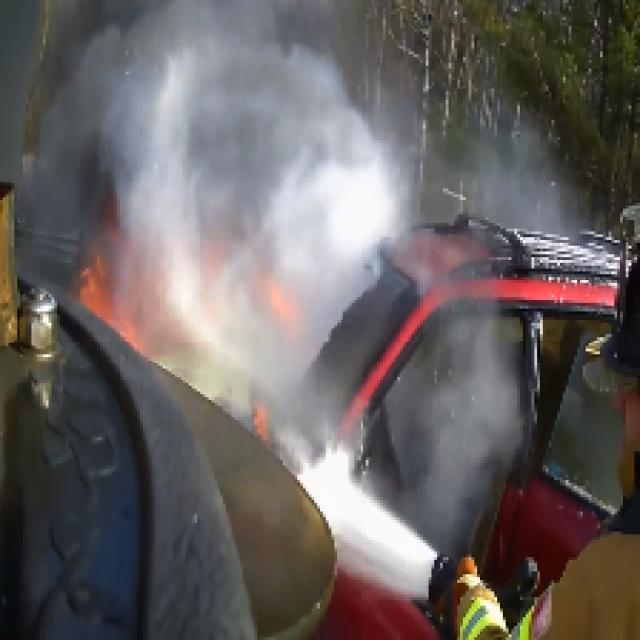Smoke: (48, 0, 468, 574)
